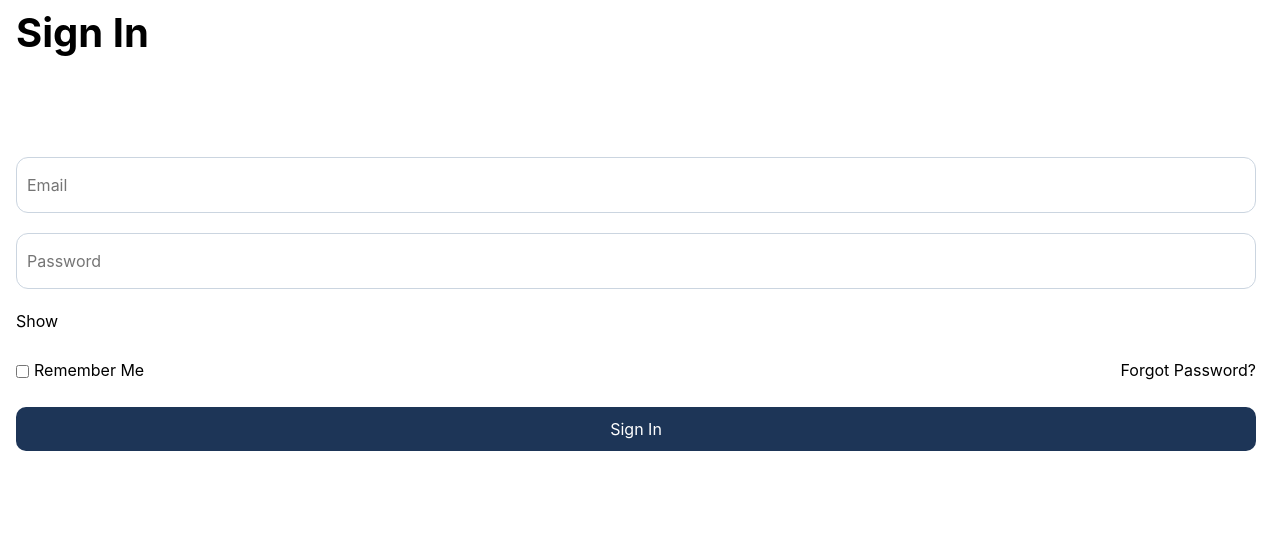
Test: LoginComponent › shows validation errors for empty fields on submit
This screenshot has width=1273, height=546.
Click the button "Sign In" at (636, 429), box [16,407,1256,451]
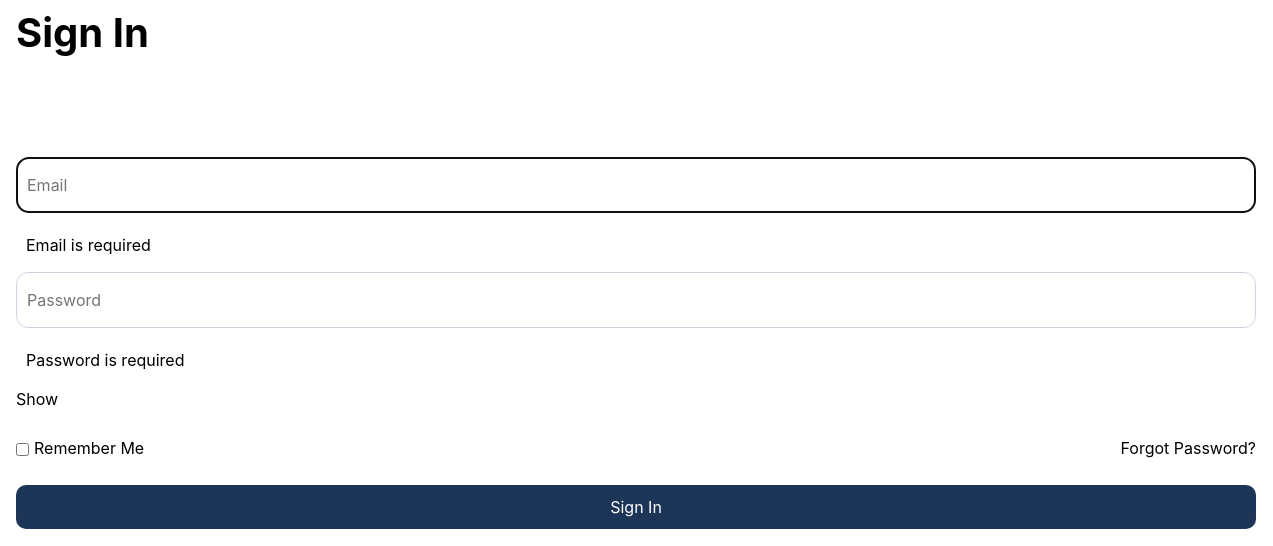
Check: the text "Email is required" is shown, box [26,235,151,255]
Check: the text "Password is required" is shown, box [26,350,184,370]
